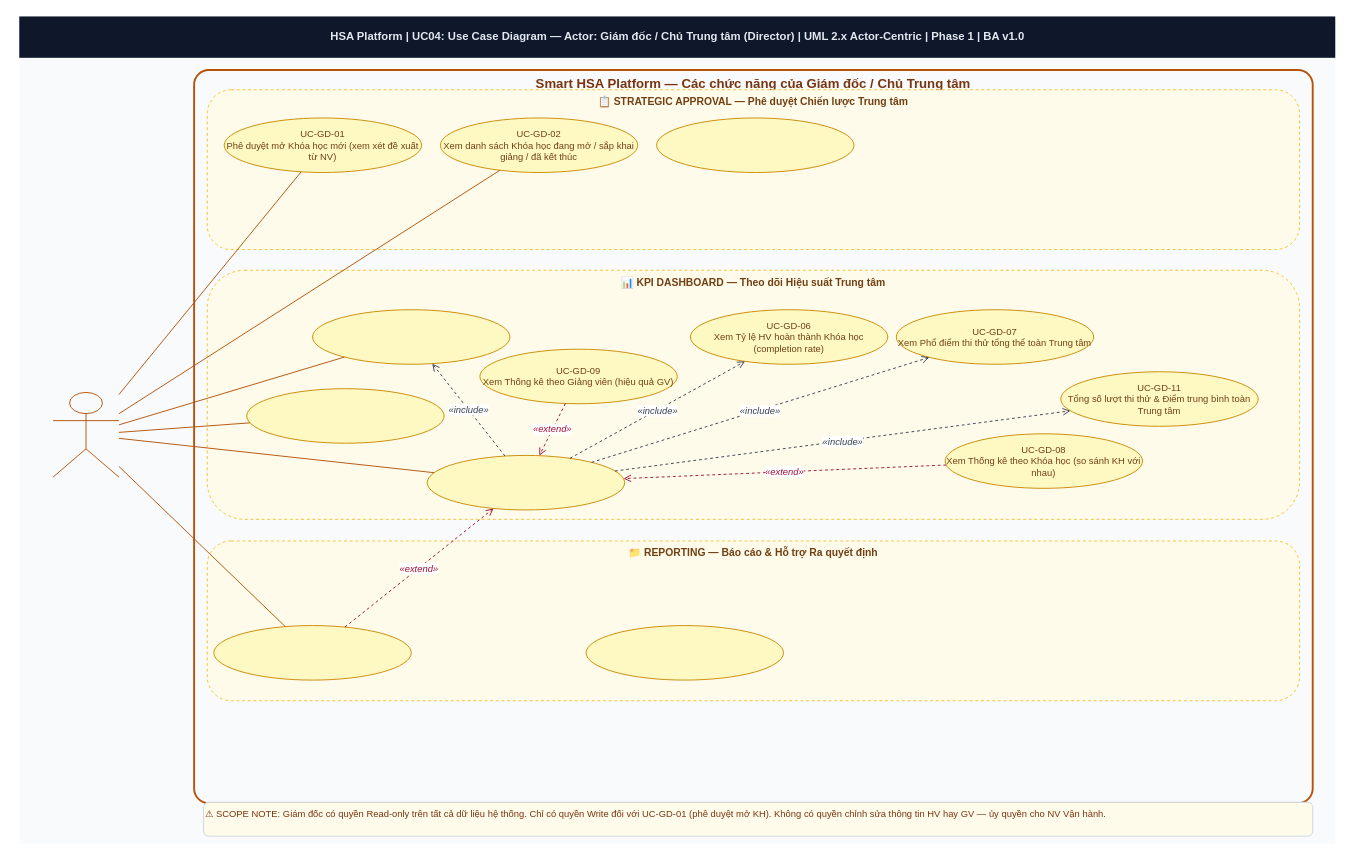
The diagram is 1352 pixels wide and 859 high, and some of its shapes have lost their labels. Here are the shapes that lost their labels. From the top down, the centre of each, then its label:
the point at 755,144: UC-GD-03 Xem DS Giảng viên đang có hợp đồng & lịch phân công
the point at 411,336: UC-GD-05 Xem Tổng doanh thu & Số HV tuyển sinh theo tháng / quý
the point at 85,434: Giám đốc / Chủ Trung tâm
the point at 345,415: UC-GD-10 Nhận cảnh báo KH sắp khai giảng chưa đủ số lượng HV
the point at 525,482: UC-GD-04 Xem Dashboard KPI Tổng hợp Trung tâm (real-time)
the point at 312,652: UC-GD-12 Xuất Báo cáo Tổng hợp Trung tâm (PDF / Excel)
the point at 684,652: UC-GD-13 Xuất Báo cáo Tuyển sinh theo giai đoạn (do NV chuẩn bị)
